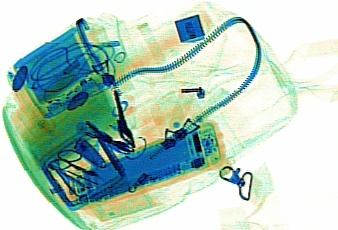powerbank: (10, 20, 106, 117)
scissors: (45, 146, 98, 177)
